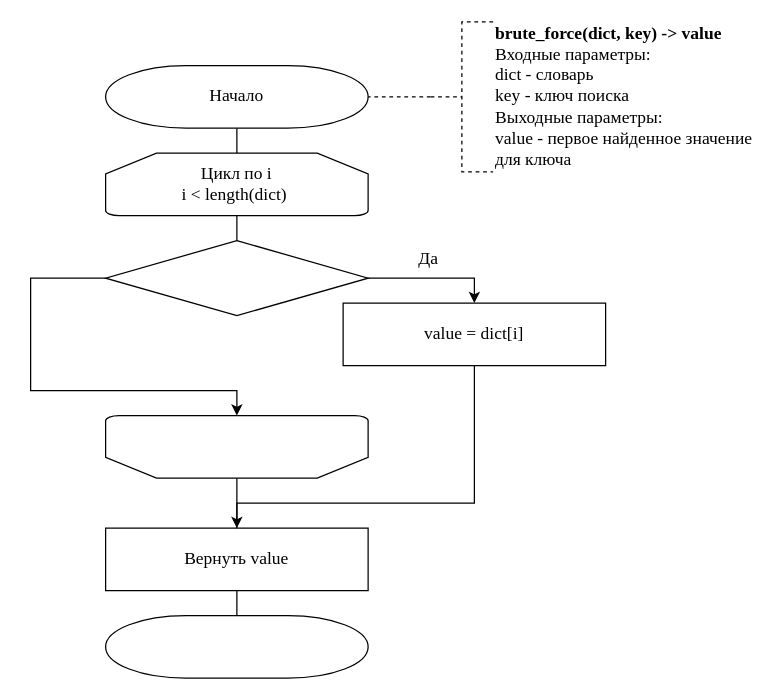
Some shapes in this 775 by 700 pixel diagram are drawn without their labels. Here are the shapes that lost their labels. From the top down, the centre of each, then its label:
point 236,277: i == key?
point 236,446: Конец цикла по i
point 236,646: Конец
